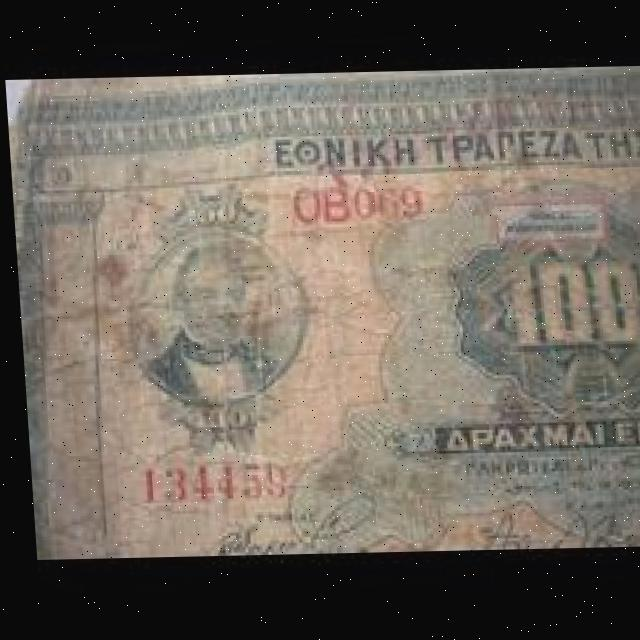banknote: (7, 72, 640, 553), (481, 244, 640, 370)
